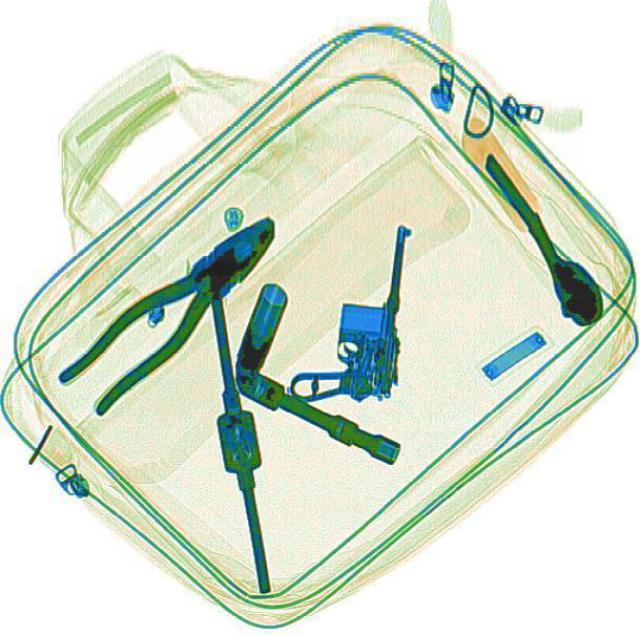Gun: (287, 215, 408, 404)
Pliers: (52, 198, 294, 417)
